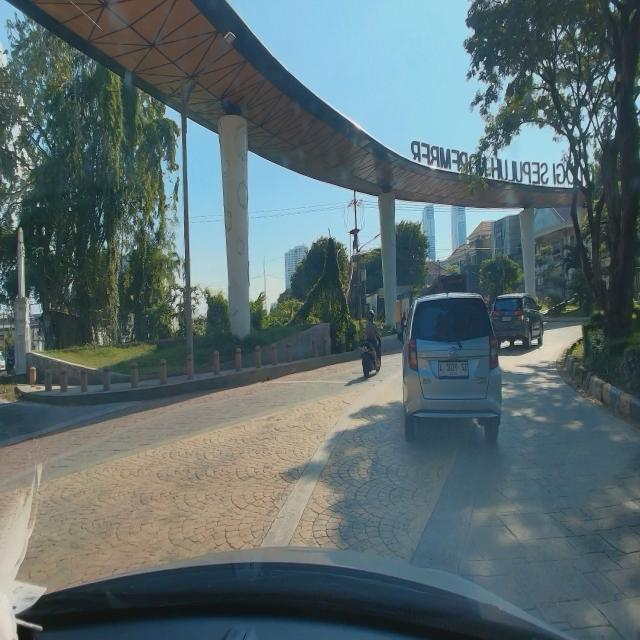car: (400, 290, 504, 444), (491, 290, 545, 352)
license-plate: (438, 360, 471, 378), (502, 313, 514, 325)
